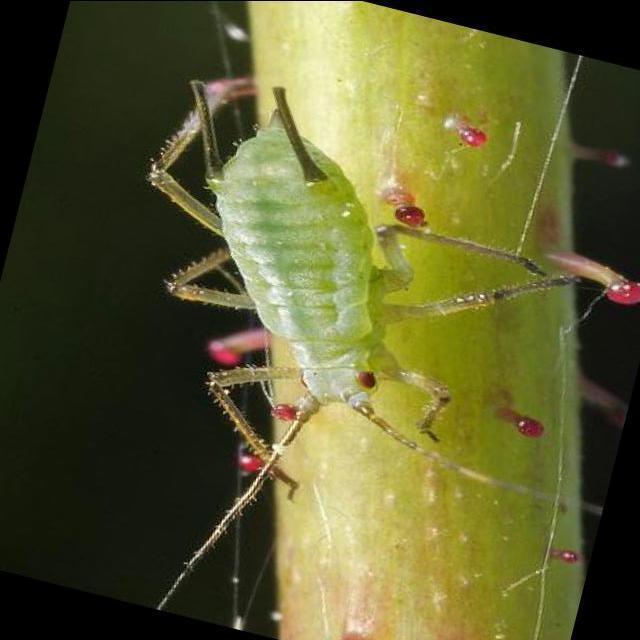aphid: (77, 62, 595, 584)
